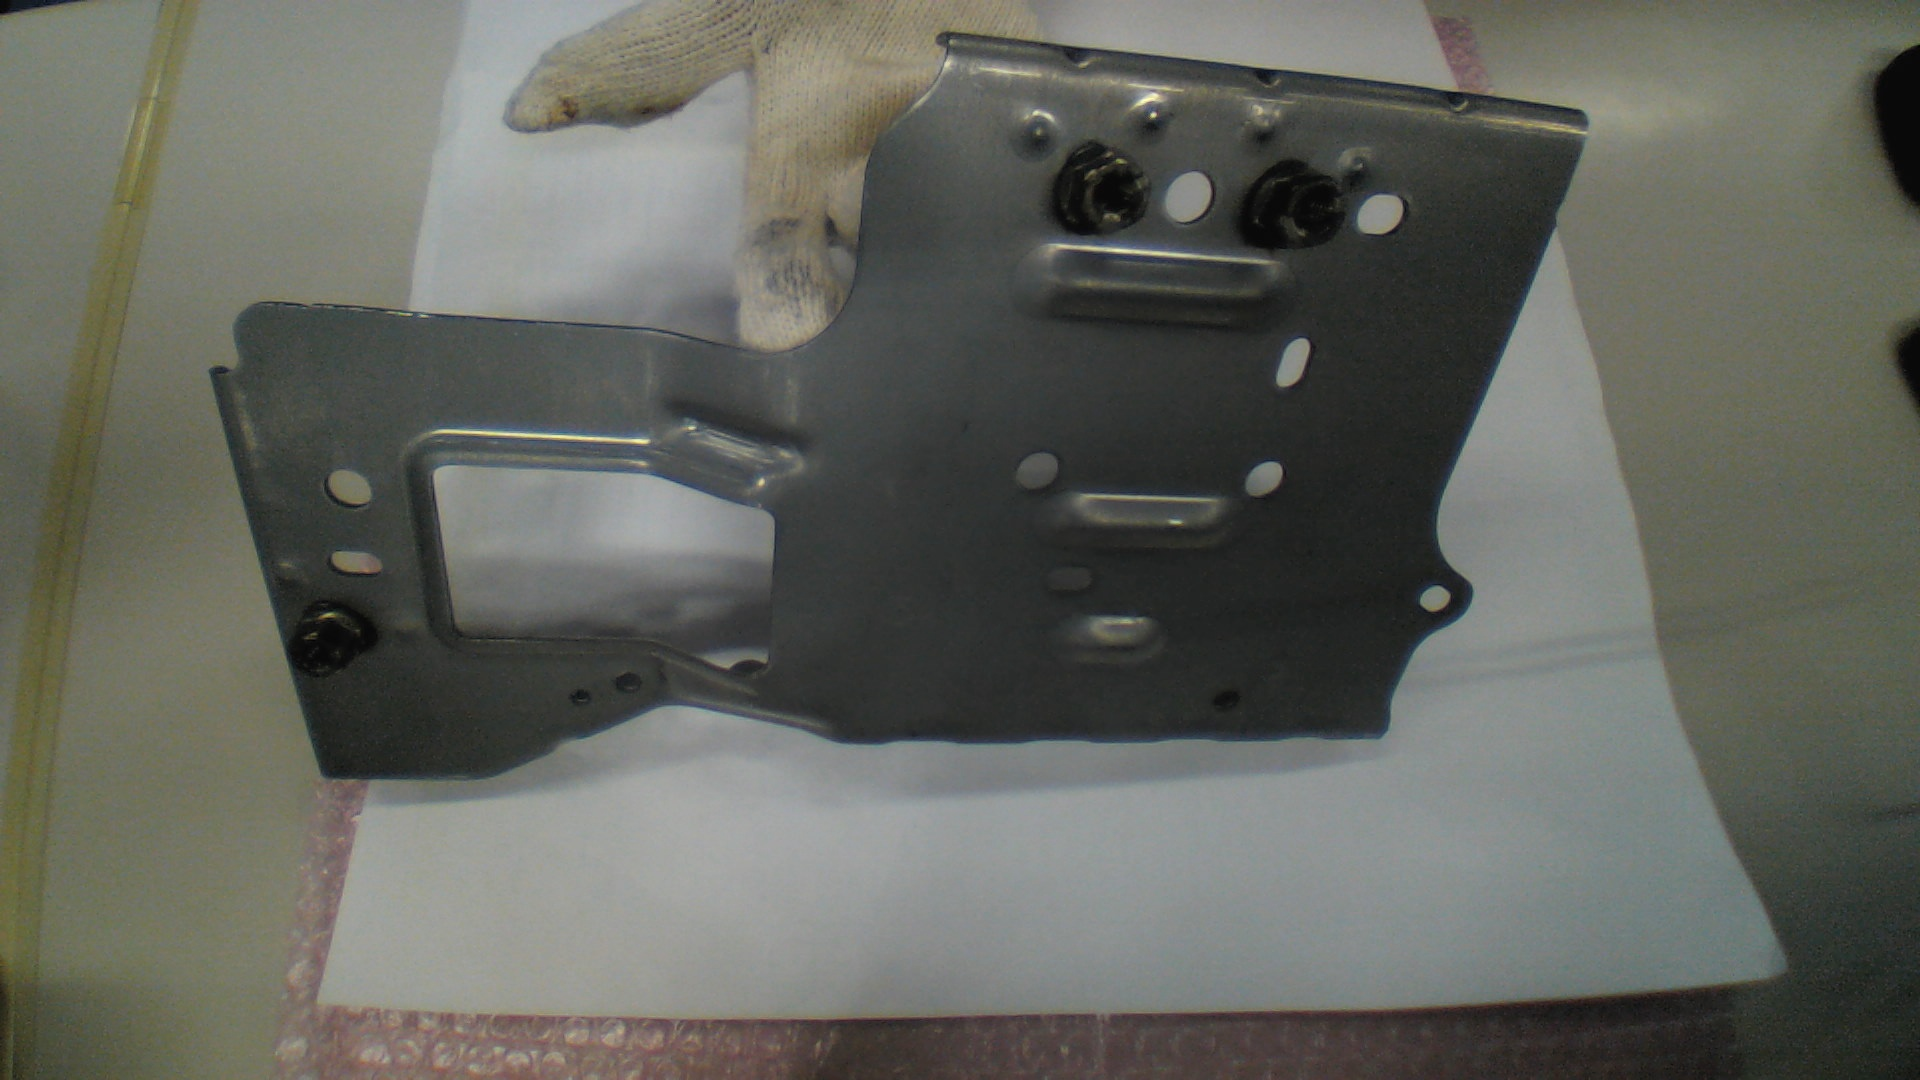dog: (1240, 162, 1348, 252), (1056, 140, 1147, 240), (286, 601, 382, 676)
